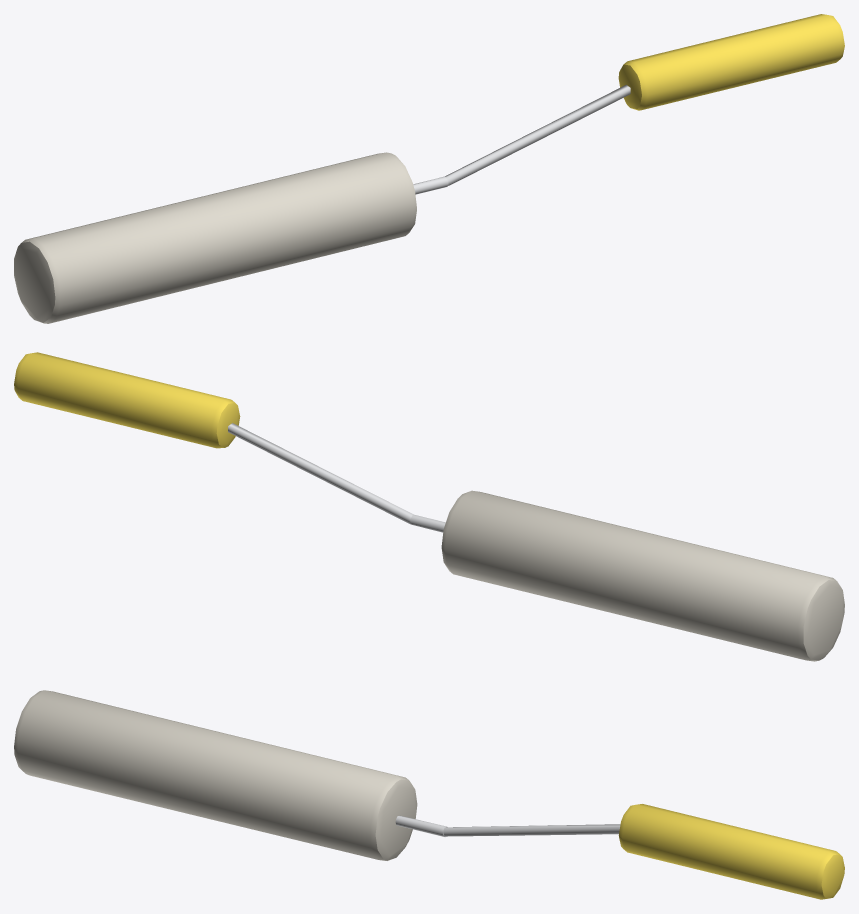
File: PIN-FER-001_lod1.glb
3 renders of one model, top to bottom at view 1: azimuth 30°, elevation 25°; view 2: azimuth 150°, elevation 25°; view 3: azimuth 330°, elevation 25°, orthographic.
Visible parts, largest first — view 1: PIN-FER-001_la, PIN-FER-001_cabo, PIN-FER-001_haste; view 2: PIN-FER-001_la, PIN-FER-001_cabo, PIN-FER-001_haste; view 3: PIN-FER-001_la, PIN-FER-001_cabo, PIN-FER-001_haste, PIN-FER-001_eixo.
Boxes of the visible parts, <box> form: PIN-FER-001_la: <box>14,152,416,323</box>; PIN-FER-001_cabo: <box>618,14,844,110</box>; PIN-FER-001_haste: <box>445,84,630,185</box>; PIN-FER-001_la: <box>441,490,844,661</box>; PIN-FER-001_cabo: <box>14,352,240,448</box>; PIN-FER-001_haste: <box>228,423,413,523</box>; PIN-FER-001_la: <box>14,690,417,860</box>; PIN-FER-001_cabo: <box>618,804,844,899</box>; PIN-FER-001_haste: <box>443,824,620,836</box>; PIN-FER-001_eixo: <box>395,815,447,836</box>.
Bounding box in the file's own units: 0.505 × 0.068 × 0.0474.
